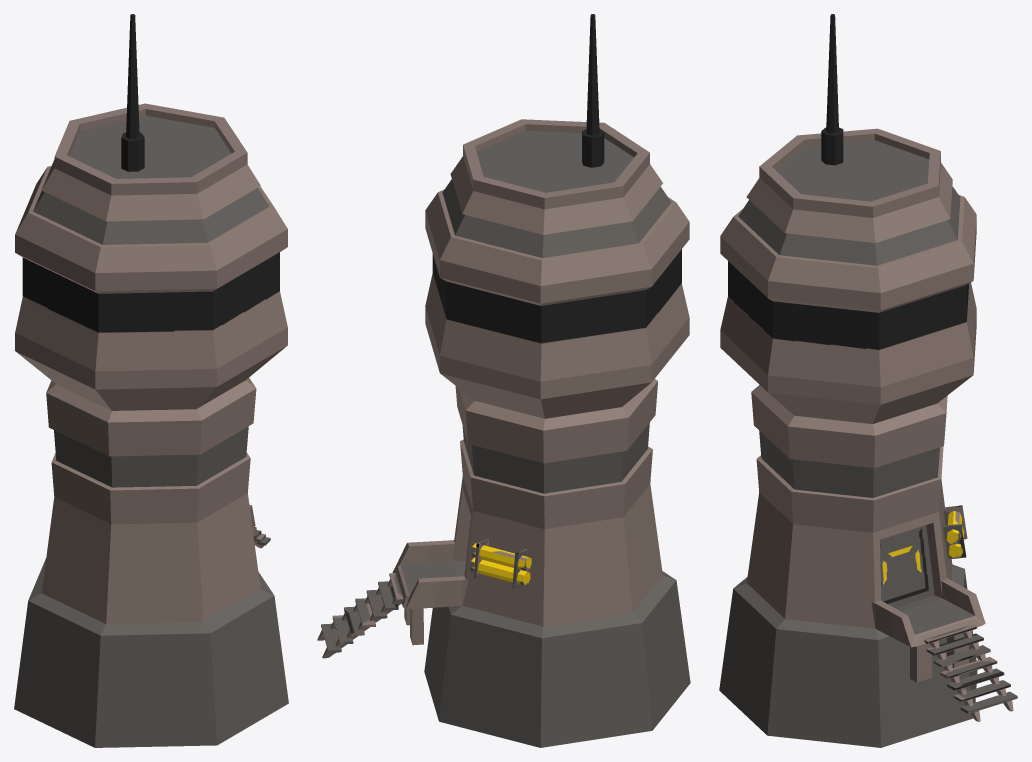
Rendered from ShopTower.fbx.
3 renders of one model, left to right at view 1: azimuth 30°, elevation 25°; view 2: azimuth 150°, elevation 25°; view 3: azimuth 270°, elevation 25°, orthographic. The views are drawn at different scales.
Parts seen in each view (by area): view 1: Cylinder; view 2: Cylinder, Cube.027, Cube.028; view 3: Cylinder, Cube.027, Cube.028.
Part boxes in pixels (<box>): Cylinder: <box>14,14,288,747</box>; Cylinder: <box>392,14,690,747</box>; Cube.027: <box>317,573,403,658</box>; Cube.028: <box>469,538,531,588</box>; Cylinder: <box>719,14,985,747</box>; Cube.027: <box>924,624,1017,721</box>; Cube.028: <box>942,505,967,559</box>.
Size of the model in its own units: 244 by 542 by 221.
Materials: 3 (3 with a texture image).
